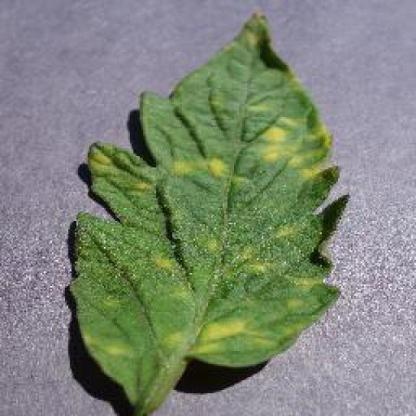Strawberry_Anthracnose_Fruit_Rot: (184, 302, 268, 351), (256, 115, 308, 162), (165, 150, 232, 183)
